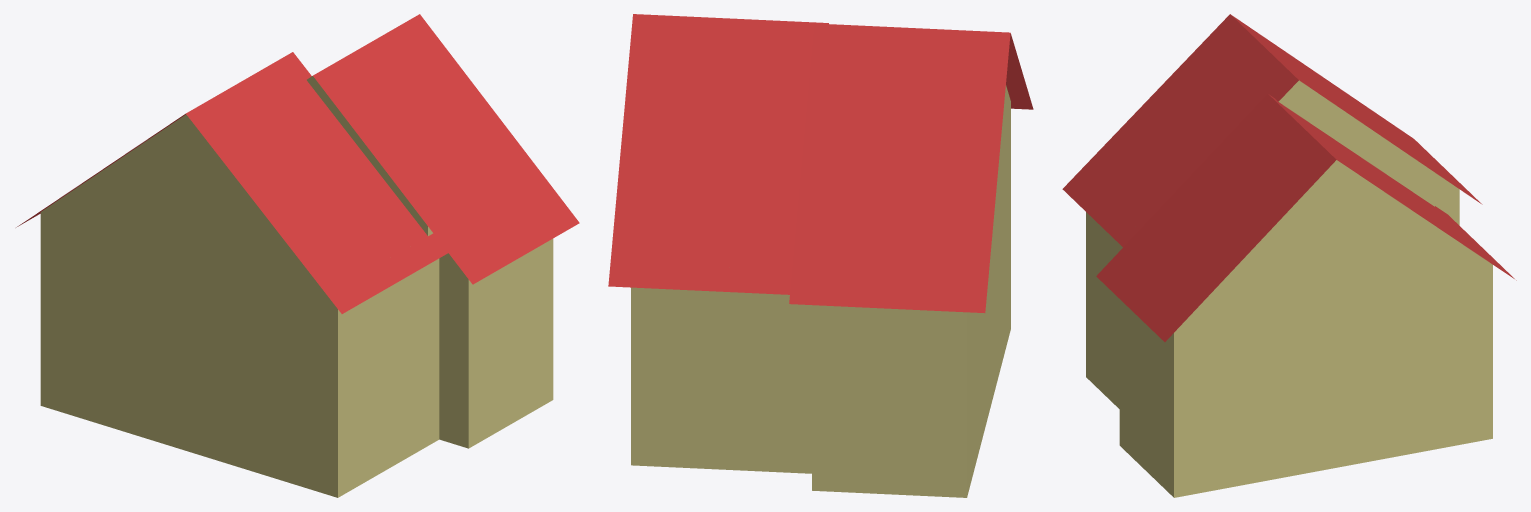
3 renders of one model, left to right at view 1: azimuth 30°, elevation 25°; view 2: azimuth 150°, elevation 25°; view 3: azimuth 270°, elevation 25°, orthographic. The views are drawn at different scales.
Parts seen in each view (by area): view 1: group_9, group_3, group_7, group_5, group_8, group_4; view 2: group_7, group_3, group_9, group_5, group_8, group_4; view 3: group_5, group_3, group_7, group_9, group_8, group_4.
Boxes of the visible parts, bbox=[...] form: group_9: bbox=[40, 114, 427, 497]; group_3: bbox=[313, 14, 579, 284]; group_7: bbox=[16, 52, 447, 313]; group_5: bbox=[307, 76, 553, 448]; group_8: bbox=[29, 108, 446, 313]; group_4: bbox=[410, 14, 578, 283]; group_7: bbox=[789, 23, 1033, 312]; group_3: bbox=[608, 14, 828, 294]; group_9: bbox=[806, 85, 1010, 497]; group_5: bbox=[631, 287, 806, 473]; group_8: bbox=[789, 31, 1032, 312]; group_4: bbox=[609, 14, 788, 293]; group_5: bbox=[1119, 160, 1492, 497]; group_3: bbox=[1096, 94, 1516, 341]; group_7: bbox=[1062, 14, 1481, 246]; group_9: bbox=[1086, 80, 1459, 408]; group_8: bbox=[1063, 15, 1480, 247]; group_4: bbox=[1097, 154, 1512, 339].
Bounding box in the file's own units: 19.83 × 19.02 × 15.16.
